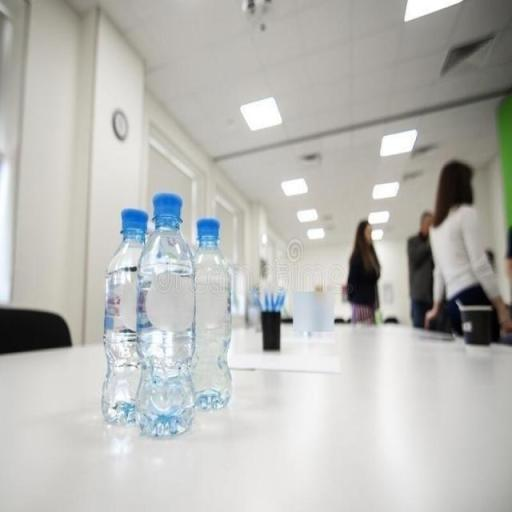plastic: (134, 194, 201, 440), (98, 203, 150, 431), (188, 213, 236, 415)
